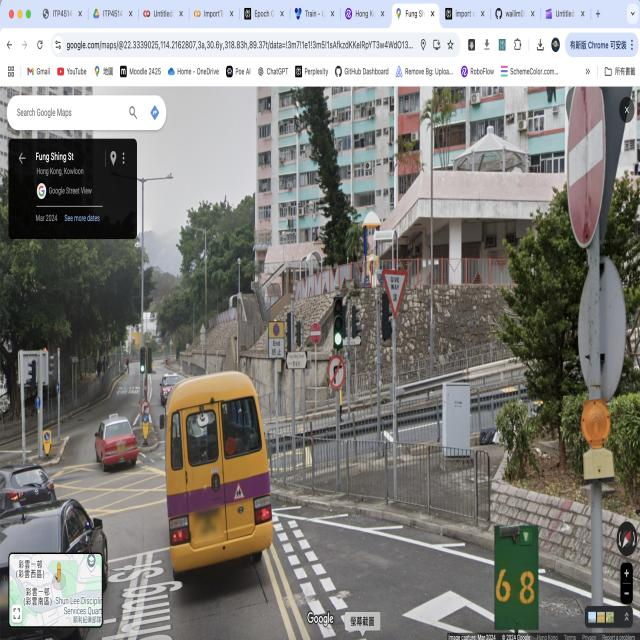Order-Sign: (561, 93, 609, 240), (327, 354, 345, 390), (270, 322, 284, 356), (309, 322, 322, 344)
Street-Direction-Sign: (286, 352, 308, 368)
